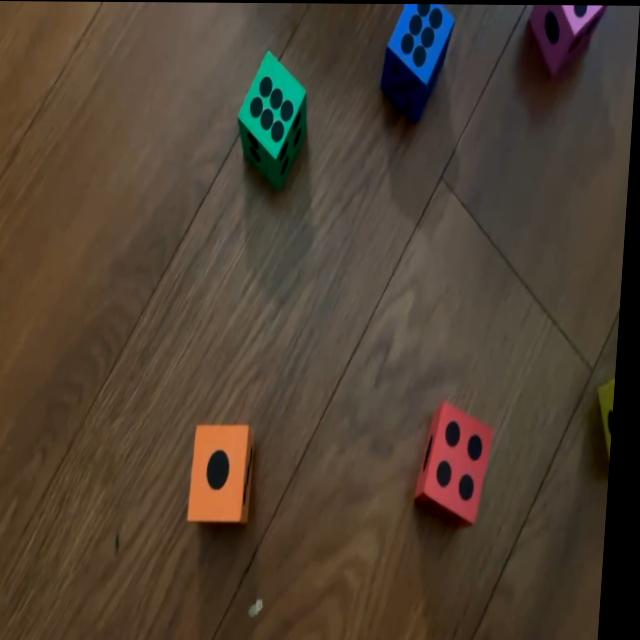red_block: (420, 400, 500, 524)
